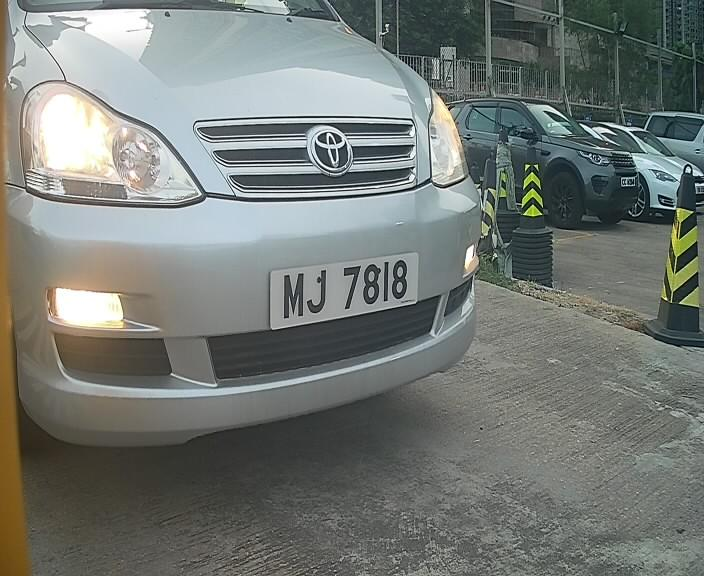License Plate: (261, 245, 428, 335)
